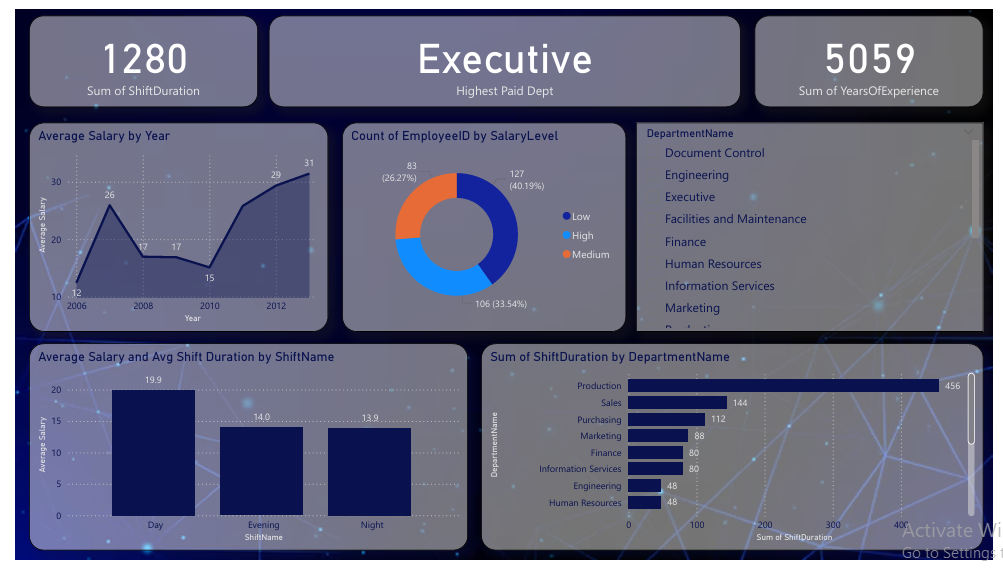

What the dashboard file says about the page in this screenshot:
{"tool":"powerbi","page":{"name":"Shift & Salary Insights","canvas":[1280,720],"ordinal":1},"visuals":[{"type":"clusteredColumnChart","fields":{"Category":["HR_clean.ShiftName"],"Y":["HR_clean.Average Salary"]},"box":[18.3,436.7,575,271.7],"z":0},{"type":"barChart","fields":{"Category":["HR_clean.DepartmentName"],"Y":["Sum(HR_clean.ShiftDuration)"]},"box":[610,436.7,658.3,271.7],"z":1000},{"type":"lineChart","fields":{"Category":["HR_clean.HireDate.Variation.Date Hierarchy.Year"],"Y":["HR_clean.Average Salary"]},"box":[18.3,148.3,391.7,273.3],"z":2000},{"type":"donutChart","fields":{"Category":["HR_clean.SalaryLevel"],"Y":["CountNonNull(HR_clean.EmployeeID)"]},"box":[428.3,148.3,371.7,273.3],"z":3000},{"type":"slicer","fields":{"Values":["HR_clean.DepartmentName"]},"box":[813.3,148.3,455,273.3],"z":4000},{"type":"card","fields":{"Values":["Sum(HR_clean.ShiftDuration)"]},"box":[18.3,8.3,300,120],"z":5000},{"type":"card","fields":{"Values":["HR_clean.Highest Paid Dept"]},"box":[331.7,8.3,618.3,120],"z":6000},{"type":"card","fields":{"Values":["Sum(HR_clean.YearsOfExperience)"]},"box":[968.3,8.3,300,120],"z":7000}]}

Visuals, with their boxes in screenshot pixels (x1, y1, x2, y2), scaled from the page's 1280x720 canvas onto the 1003x577 screenshot:
clusteredColumnChart - HR_clean.ShiftName x HR_clean.Average Salary: 14 350 465 568
barChart - HR_clean.DepartmentName x Sum(HR_clean.ShiftDuration): 478 350 994 568
lineChart - HR_clean.HireDate.Variation.Date Hierarchy.Year x HR_clean.Average Salary: 14 119 321 338
donutChart - HR_clean.SalaryLevel x CountNonNull(HR_clean.EmployeeID): 336 119 627 338
slicer - HR_clean.DepartmentName: 637 119 994 338
card - Sum(HR_clean.ShiftDuration): 14 7 249 103
card - HR_clean.Highest Paid Dept: 260 7 744 103
card - Sum(HR_clean.YearsOfExperience): 759 7 994 103
